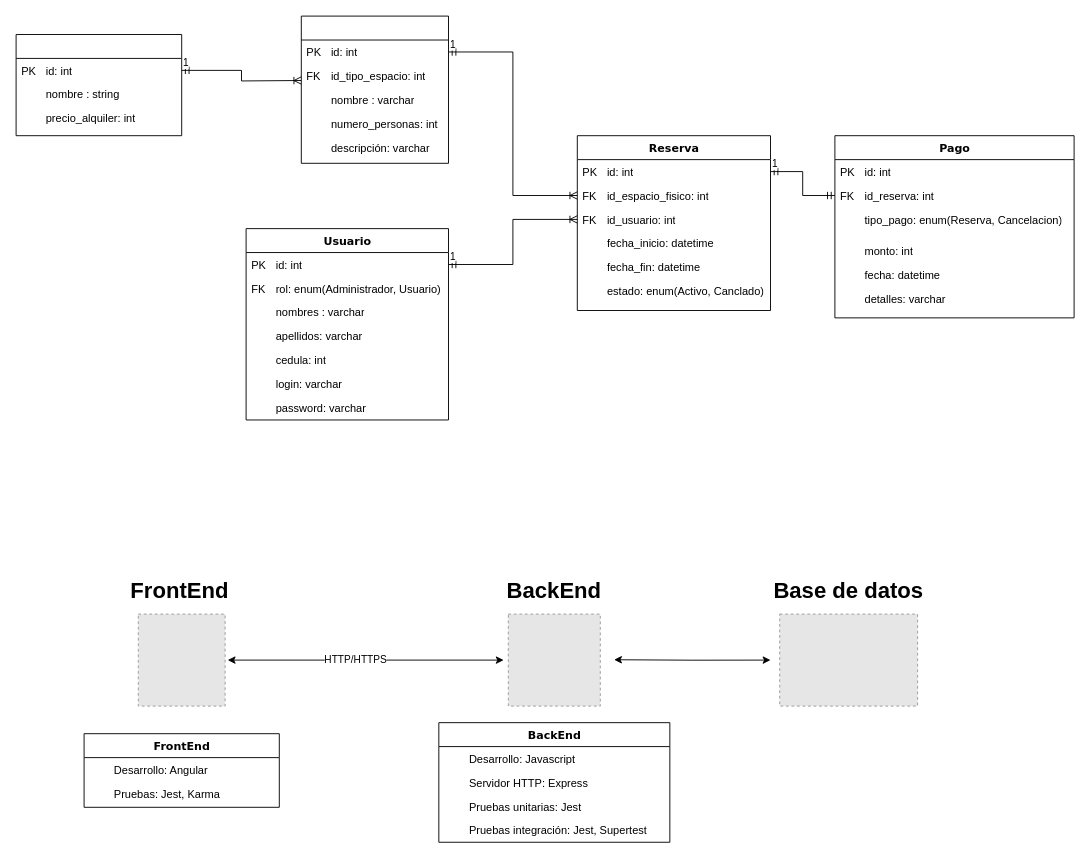
This 1090x861 diagram has some shape labels left out. Grey dashed boxes stand in for pictures. The box of each missing label's shape, as (x1, y1, x2, y2) in pixels:
Espacio_Fisico: (300, 15, 448, 163)
Tipo_Espacio: (15, 34, 182, 136)
